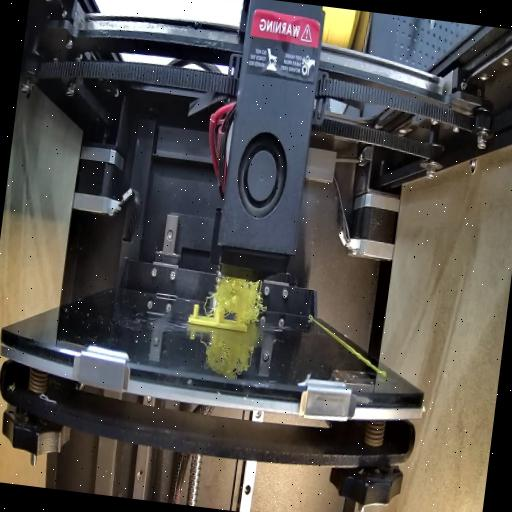spaghetti: (200, 269, 265, 326)
